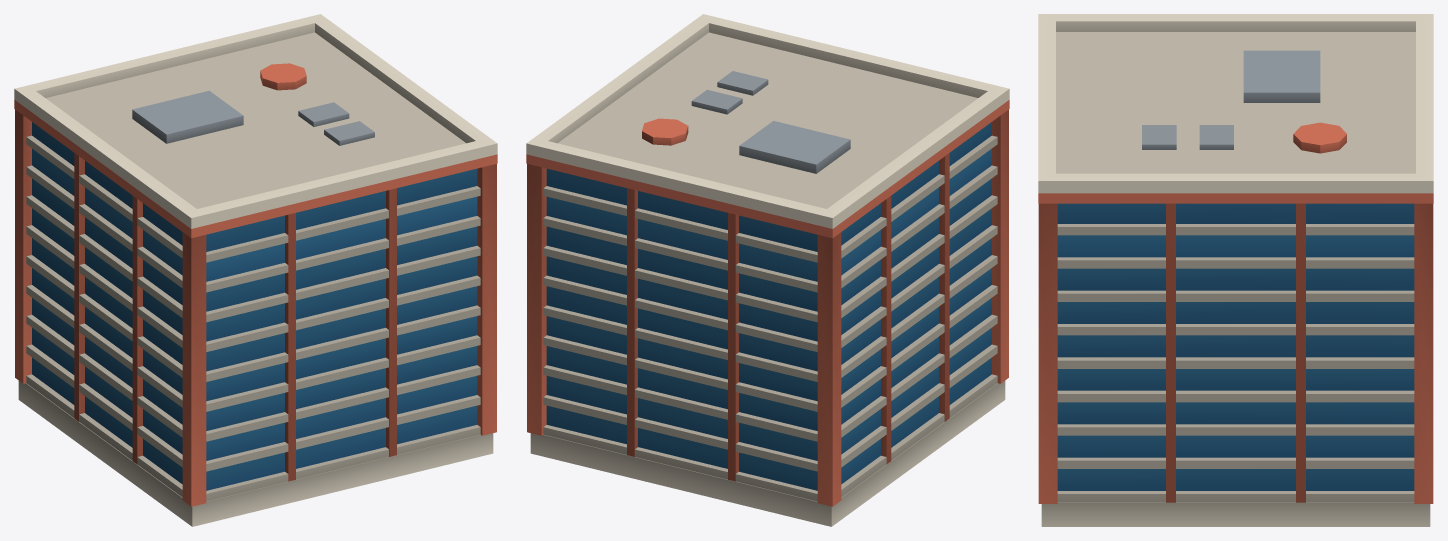
The model's file is city-tower.glb.
The picture shows the model from 3 angles, left to right: view 1: azimuth 30°, elevation 25°; view 2: azimuth 150°, elevation 25°; view 3: azimuth 270°, elevation 25°; orthographic projection. The views are drawn at different scales.
Parts seen in each view (by area): view 1: City tower Tower concrete, City tower Tower glass, City tower Tower trim, City tower Tower roof; view 2: City tower Tower concrete, City tower Tower glass, City tower Tower trim, City tower Tower roof; view 3: City tower Tower concrete, City tower Tower glass, City tower Tower trim, City tower Tower roof.
Part boxes in pixels (left/top/right/bottom): City tower Tower concrete: left=14, top=14, right=497, bottom=526; City tower Tower glass: left=32, top=122, right=477, bottom=490; City tower Tower trim: left=14, top=63, right=497, bottom=506; City tower Tower roof: left=132, top=90, right=374, bottom=145; City tower Tower concrete: left=526, top=14, right=1009, bottom=526; City tower Tower glass: left=546, top=122, right=991, bottom=490; City tower Tower trim: left=526, top=100, right=1009, bottom=506; City tower Tower roof: left=691, top=71, right=850, bottom=173; City tower Tower concrete: left=1038, top=14, right=1433, bottom=526; City tower Tower glass: left=1057, top=203, right=1414, bottom=490; City tower Tower trim: left=1038, top=122, right=1433, bottom=503; City tower Tower roof: left=1142, top=50, right=1320, bottom=149.
Bounding box in the file's own units: 1.03 × 1 × 1.03.
